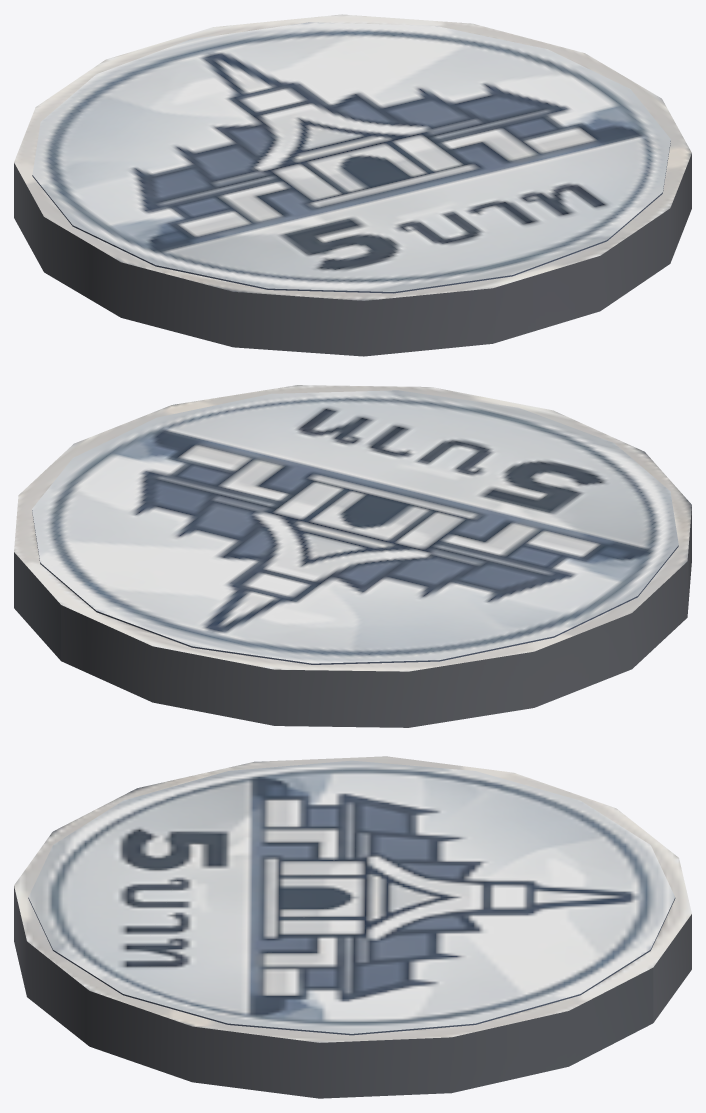
Rendered from Coin3D.fbx.
The picture shows the model from 3 angles, top to bottom: view 1: azimuth 30°, elevation 25°; view 2: azimuth 150°, elevation 25°; view 3: azimuth 270°, elevation 25°; orthographic projection.
Visible parts, largest first — view 1: Coin_05, Coin_10; view 2: Coin_05, Coin_10; view 3: Coin_05, Coin_10.
Part boxes in pixels (x1=…): Coin_05: x1=32, y1=22, x2=670, y2=293; Coin_10: x1=14, y1=14, x2=691, y2=356; Coin_05: x1=32, y1=390, x2=678, y2=664; Coin_10: x1=14, y1=385, x2=691, y2=727; Coin_05: x1=28, y1=760, x2=675, y2=1035; Coin_10: x1=14, y1=756, x2=691, y2=1098.
Bounding box in the file's own units: 5.41 × 0.5034 × 5.41.
1 material, 1 textured.
